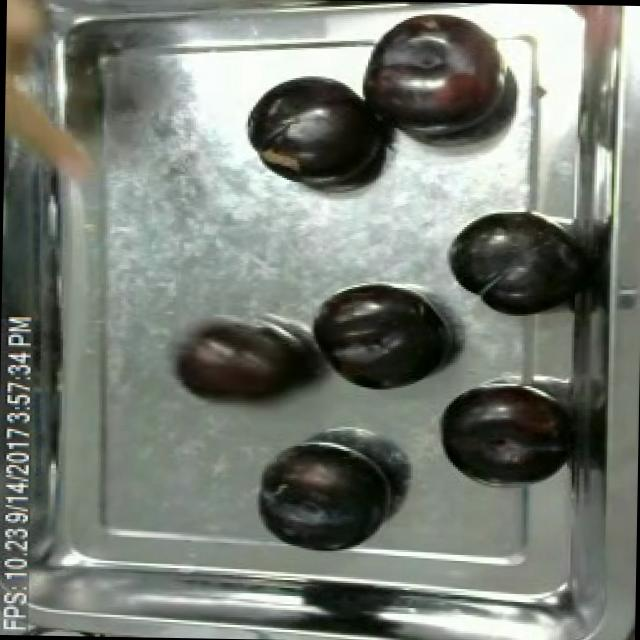Fruit: (348, 5, 524, 146), (240, 70, 394, 192), (437, 202, 582, 320), (252, 441, 398, 557), (306, 284, 454, 396), (428, 376, 570, 490), (169, 320, 300, 410)
